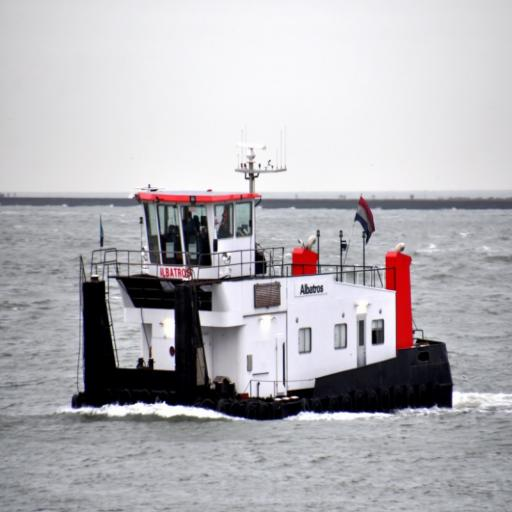tugboat: (68, 141, 459, 422)
